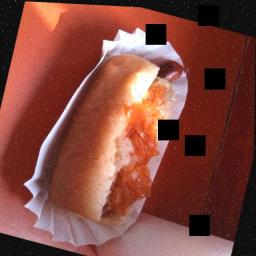hotdog: (148, 53, 190, 87)
